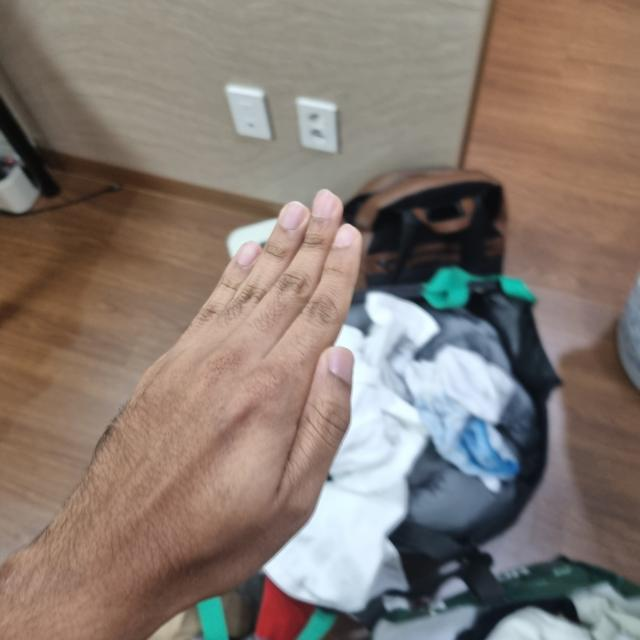Paper: (91, 196, 364, 595)
